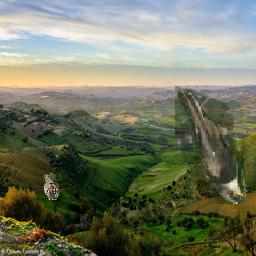Cuckoo: (176, 86, 247, 204)
Sparrow: (45, 172, 60, 200)
